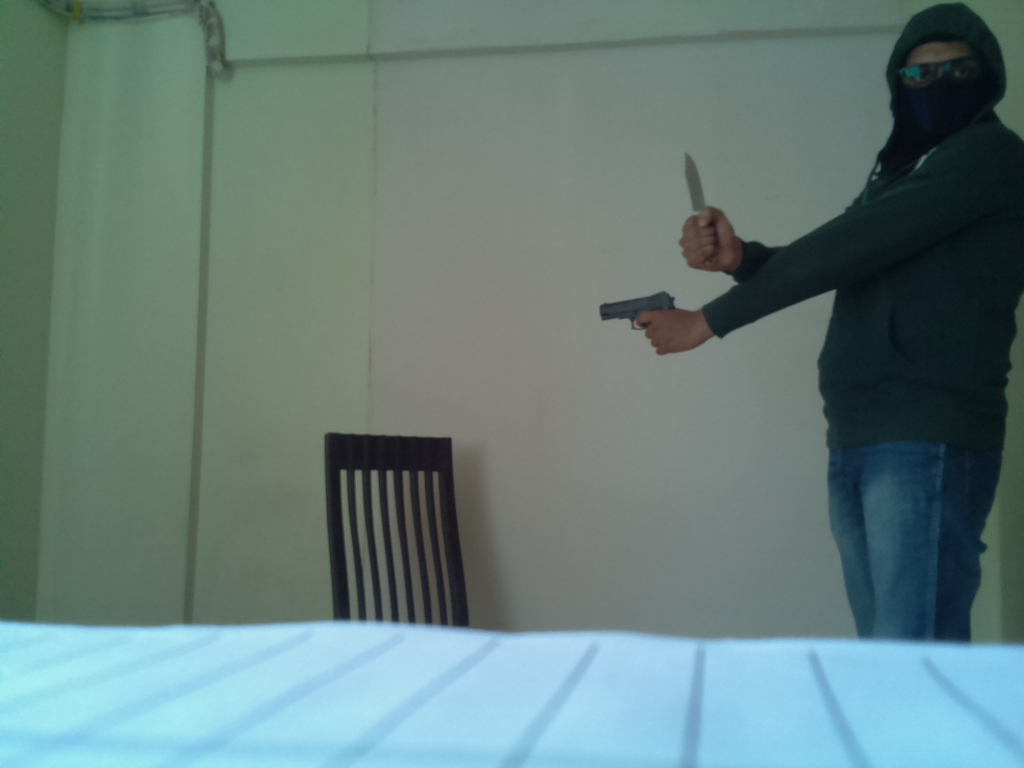gun: (596, 282, 682, 351)
knife: (678, 146, 716, 234)
